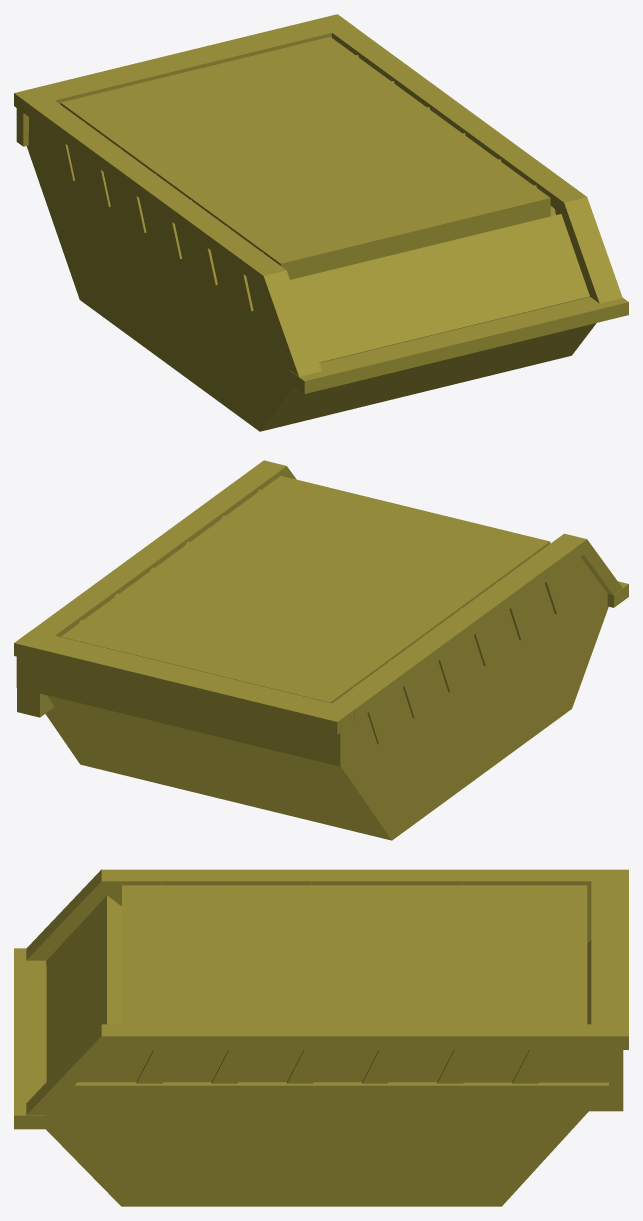
File: CaçambaVplayTeste.fbx
The picture shows the model from 3 angles, top to bottom: view 1: azimuth 30°, elevation 25°; view 2: azimuth 150°, elevation 25°; view 3: azimuth 270°, elevation 25°; orthographic projection. The views are drawn at different scales.
Parts seen in each view (by area): view 1: Cube.007, Cube.001, Cube.015; view 2: Cube.007, Cube.001; view 3: Cube.007, Cube.001, Cube.015.
Part boxes in pixels (<box>): Cube.007: <box>14,14,628,431</box>; Cube.001: <box>60,37,550,279</box>; Cube.015: <box>290,214,589,362</box>; Cube.007: <box>14,460,628,840</box>; Cube.001: <box>61,476,550,703</box>; Cube.007: <box>14,869,628,1206</box>; Cube.001: <box>122,885,587,1024</box>; Cube.015: <box>46,895,121,1081</box>.
Size of the model in its own units: 421 by 204 by 654.
